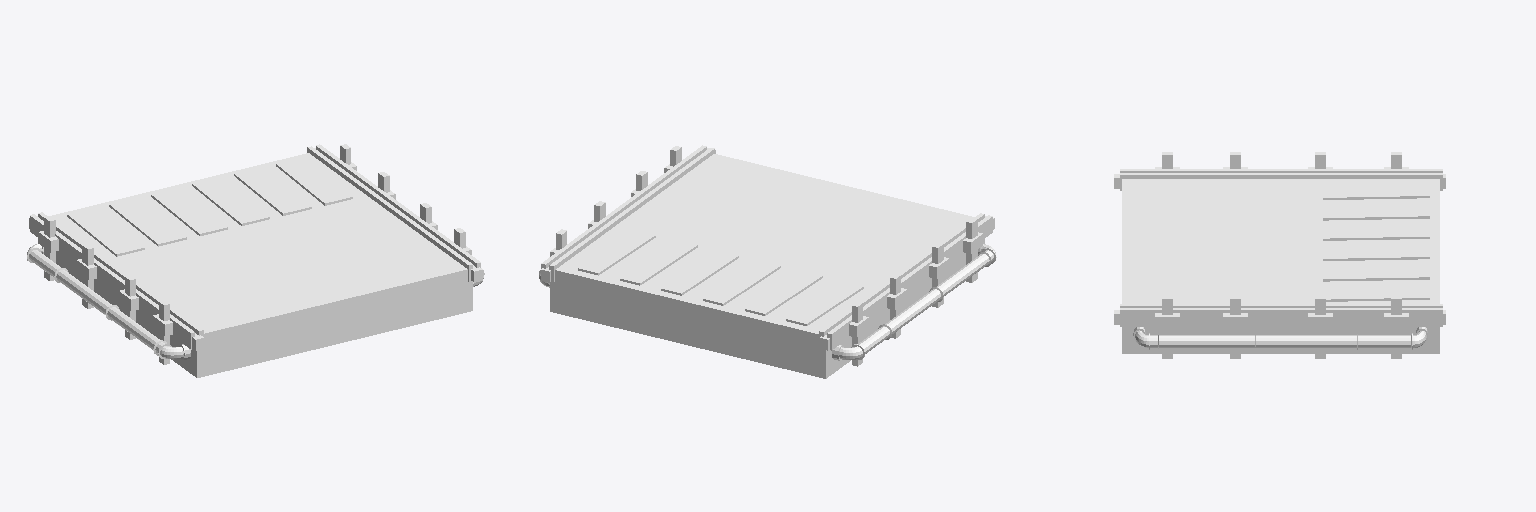
File: platform_cub_1.obj
The picture shows the model from 3 angles: view 1: azimuth 30°, elevation 25°; view 2: azimuth 150°, elevation 25°; view 3: azimuth 270°, elevation 25°; orthographic projection.
Visible parts, largest first — view 1: RailElevator_elevator_2; view 2: RailElevator_elevator_2; view 3: RailElevator_elevator_2.
Part boxes in pixels (x1,y1,x2,y2): RailElevator_elevator_2: (27, 144, 484, 377); RailElevator_elevator_2: (539, 145, 996, 378); RailElevator_elevator_2: (1114, 152, 1445, 358).
Size of the model in its own units: 303 by 54.77 by 268.